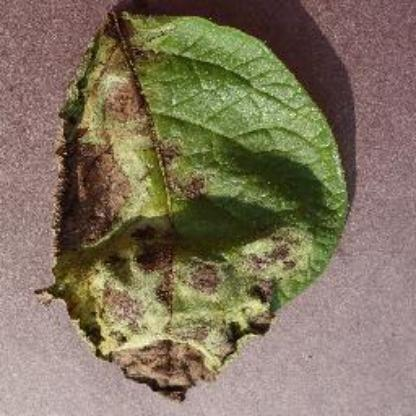Late-Blight: (43, 11, 352, 403)
